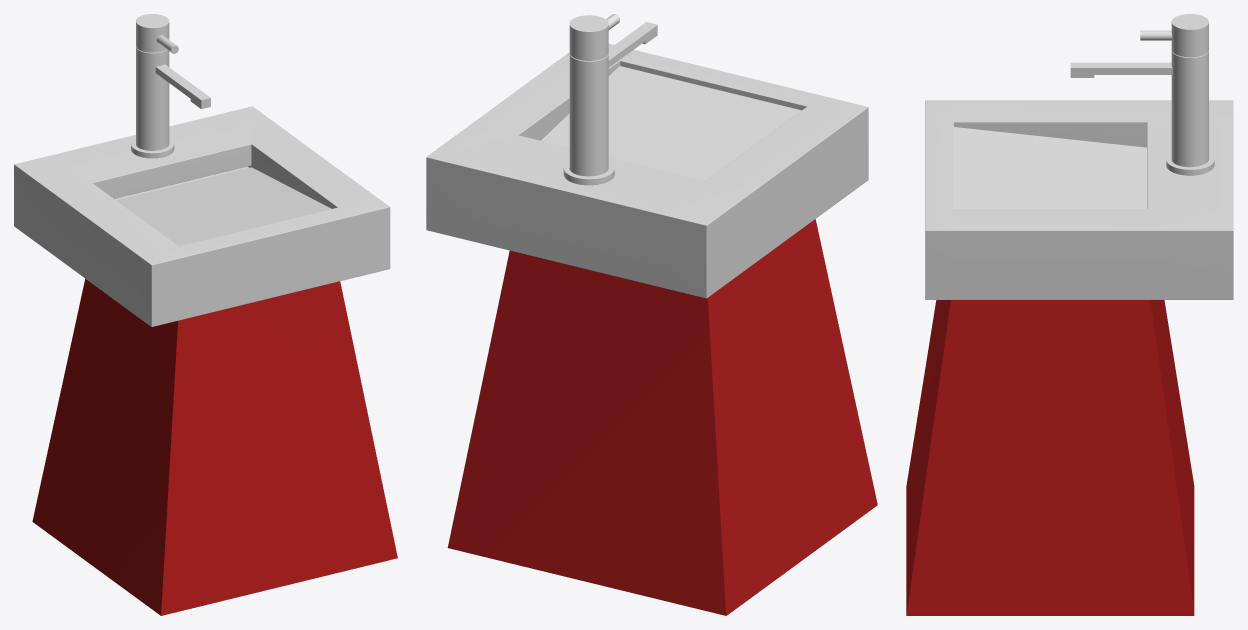
The model's file is washbasin.fbx.
3 renders of one model, left to right at view 1: azimuth 30°, elevation 25°; view 2: azimuth 150°, elevation 25°; view 3: azimuth 270°, elevation 25°, orthographic. The views are drawn at different scales.
Visible parts, largest first — view 1: Cube, Cylinder; view 2: Cube, Cylinder; view 3: Cube, Cylinder.
Part boxes in pixels (left/top/right/bottom): Cube: left=14, top=106, right=397, bottom=615; Cylinder: left=131, top=14, right=210, bottom=158; Cube: left=426, top=43, right=877, bottom=615; Cylinder: left=563, top=14, right=657, bottom=185; Cube: left=906, top=100, right=1233, bottom=615; Cylinder: left=1070, top=14, right=1214, bottom=175.
Bounding box in the file's own units: 70.17 × 133 × 74.51.
